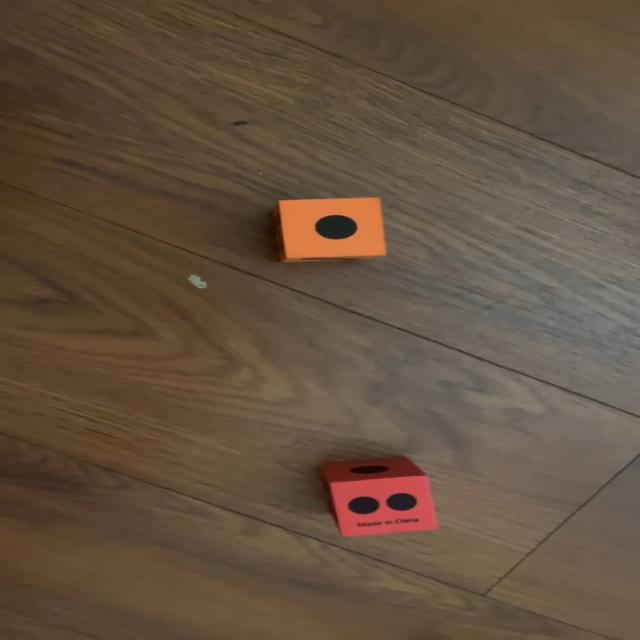red_block: (321, 455, 438, 537)
